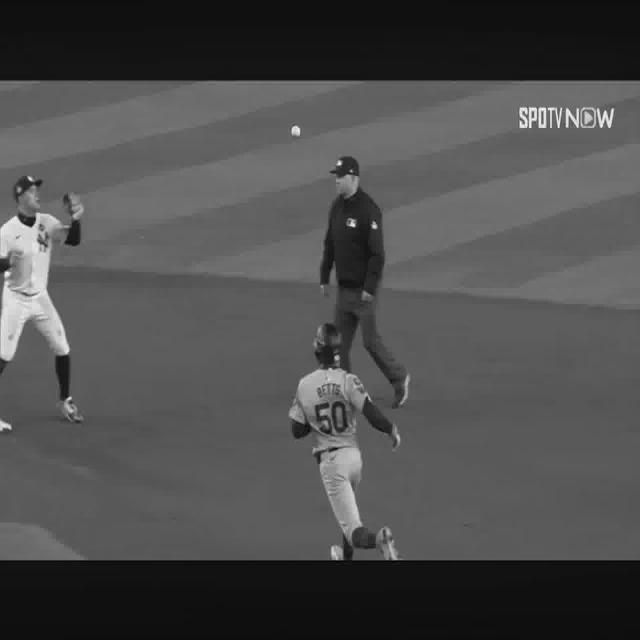baseball: (290, 125, 301, 138)
baseball_glove: (64, 195, 84, 222)
shoe: (379, 527, 400, 562), (391, 371, 410, 408), (62, 397, 84, 423), (330, 545, 343, 560)
